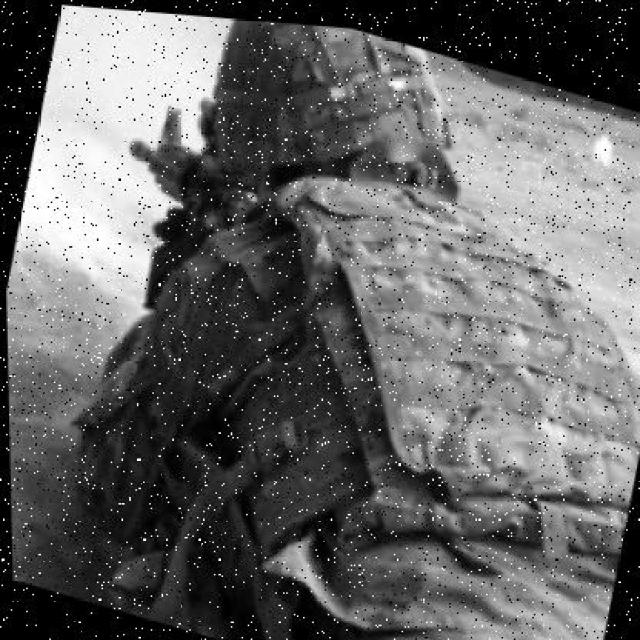MIL_Pax: (127, 7, 640, 640)
